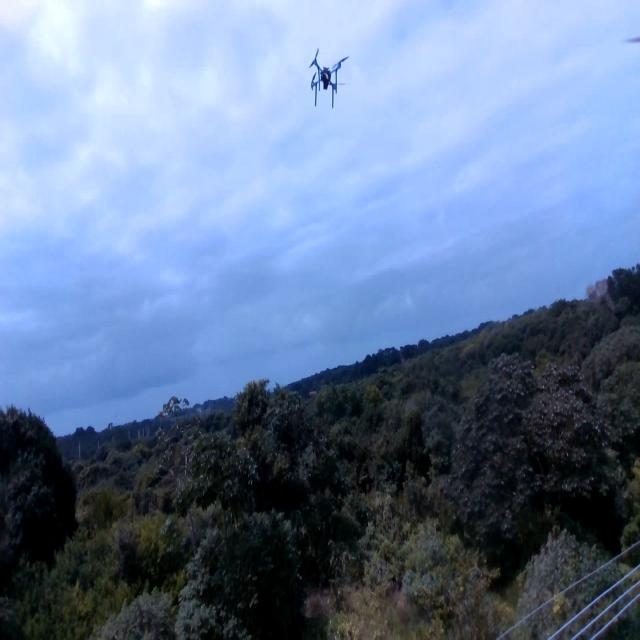-uav-: (303, 36, 356, 123)
